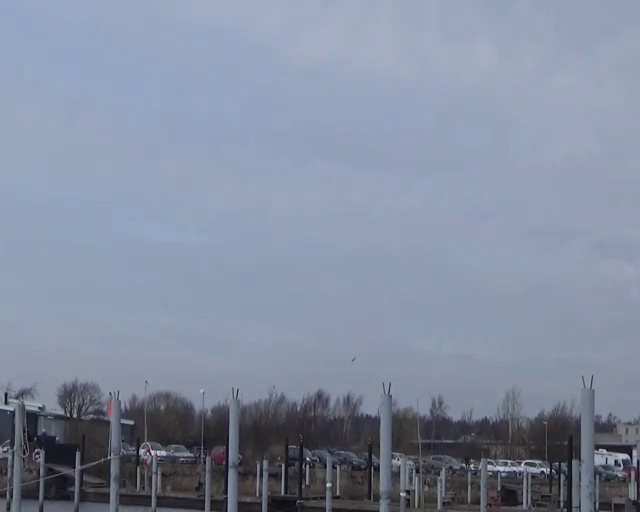BIRD: (371, 293, 379, 303)
